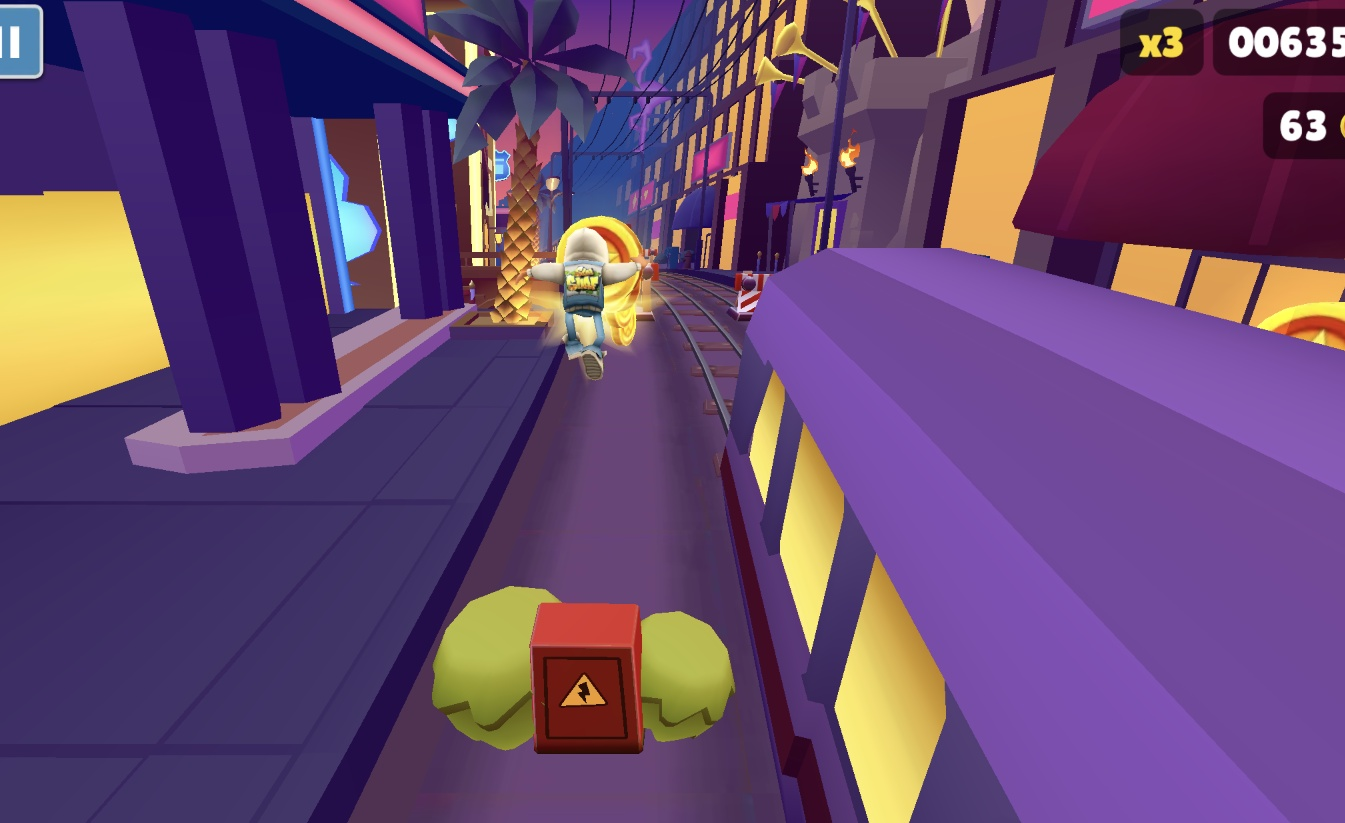bush: (431, 583, 533, 745), (642, 610, 736, 742)
ground_barrier: (731, 271, 775, 324), (635, 263, 660, 321), (644, 247, 658, 264)
small_obstacle: (533, 601, 642, 752)
train: (733, 247, 1344, 823)
